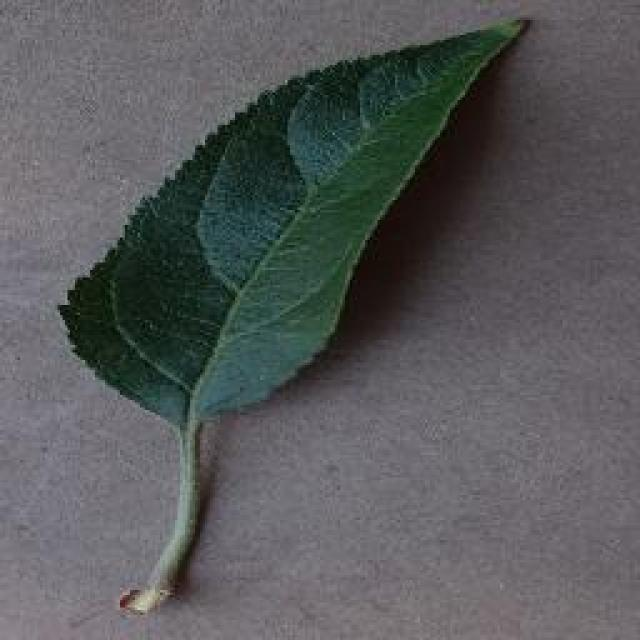apple scab disease: (52, 13, 532, 615)
